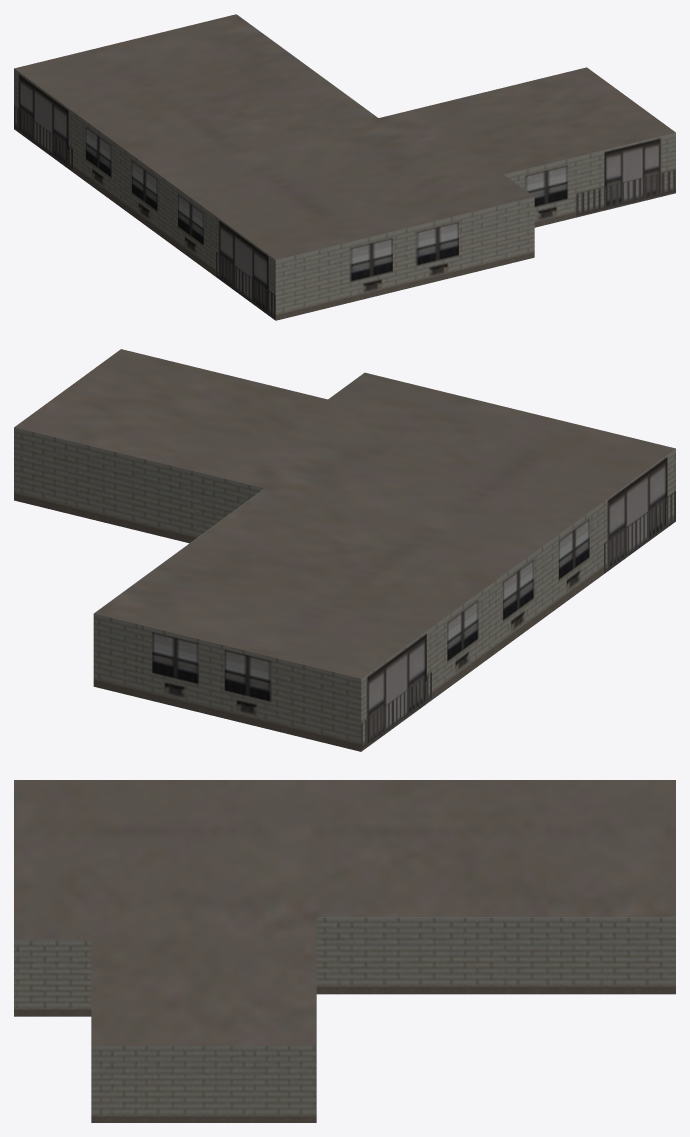
3 renders of one model, top to bottom at view 1: azimuth 30°, elevation 25°; view 2: azimuth 150°, elevation 25°; view 3: azimuth 270°, elevation 25°, orthographic. The views are drawn at different scales.
Parts seen in each view (by area): view 1: 立方体.002; view 2: 立方体.002; view 3: 立方体.002.
Part boxes in pixels (<box>): 立方体.002: <box>14,14,675,320</box>; 立方体.002: <box>14,349,675,751</box>; 立方体.002: <box>14,780,675,1122</box>.
Size of the model in its own units: 31.17 by 4.2 by 32.8.
1 material, 1 textured.
